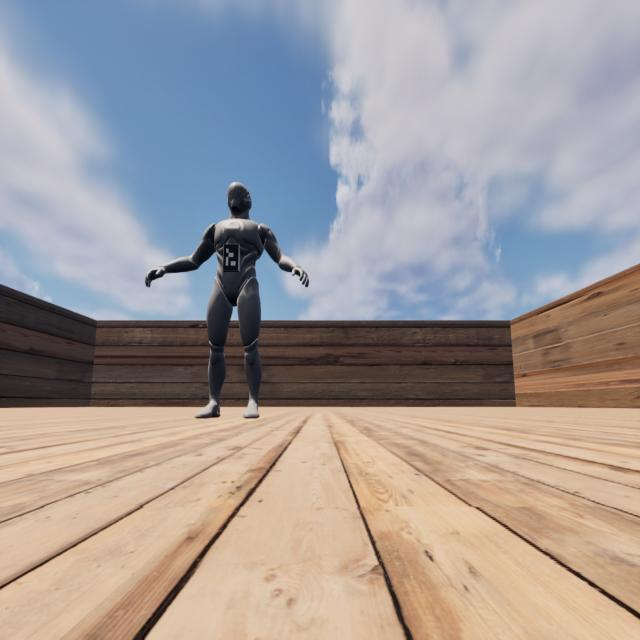aruco: (223, 245, 239, 270)
hip: (214, 277, 259, 291)
